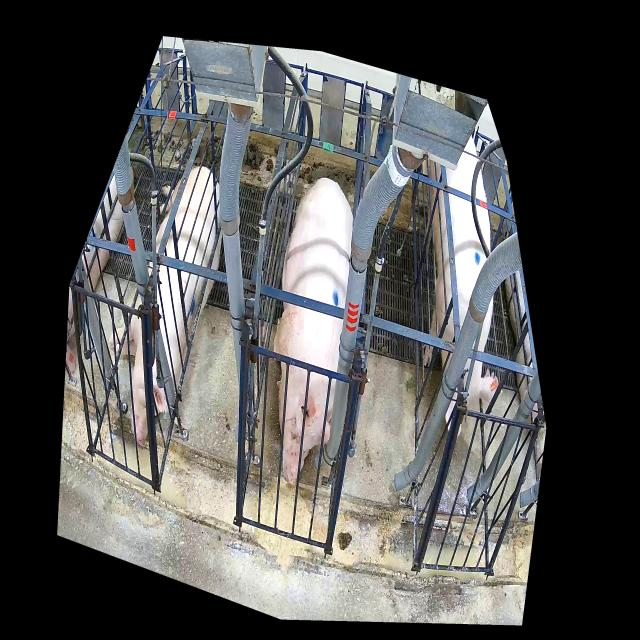pig: (108, 166, 222, 447), (273, 177, 354, 487), (422, 136, 502, 439)
